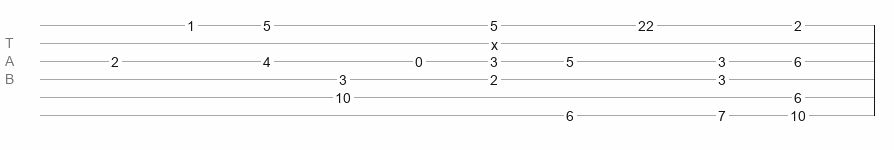0: (415, 54, 423, 64)
1: (187, 18, 195, 28)
10: (335, 90, 351, 100), (790, 108, 806, 118)
2: (111, 54, 119, 64), (490, 72, 498, 82), (794, 18, 802, 28)
22: (638, 18, 654, 28)
3: (339, 72, 347, 82), (490, 54, 498, 64), (718, 72, 726, 82), (718, 54, 726, 64)
4: (263, 54, 271, 64)
5: (263, 18, 271, 28), (490, 18, 498, 28), (566, 54, 574, 64)
6: (566, 108, 574, 118), (794, 54, 802, 64), (794, 90, 802, 100)
7: (718, 108, 726, 118)
x: (491, 37, 498, 45)
